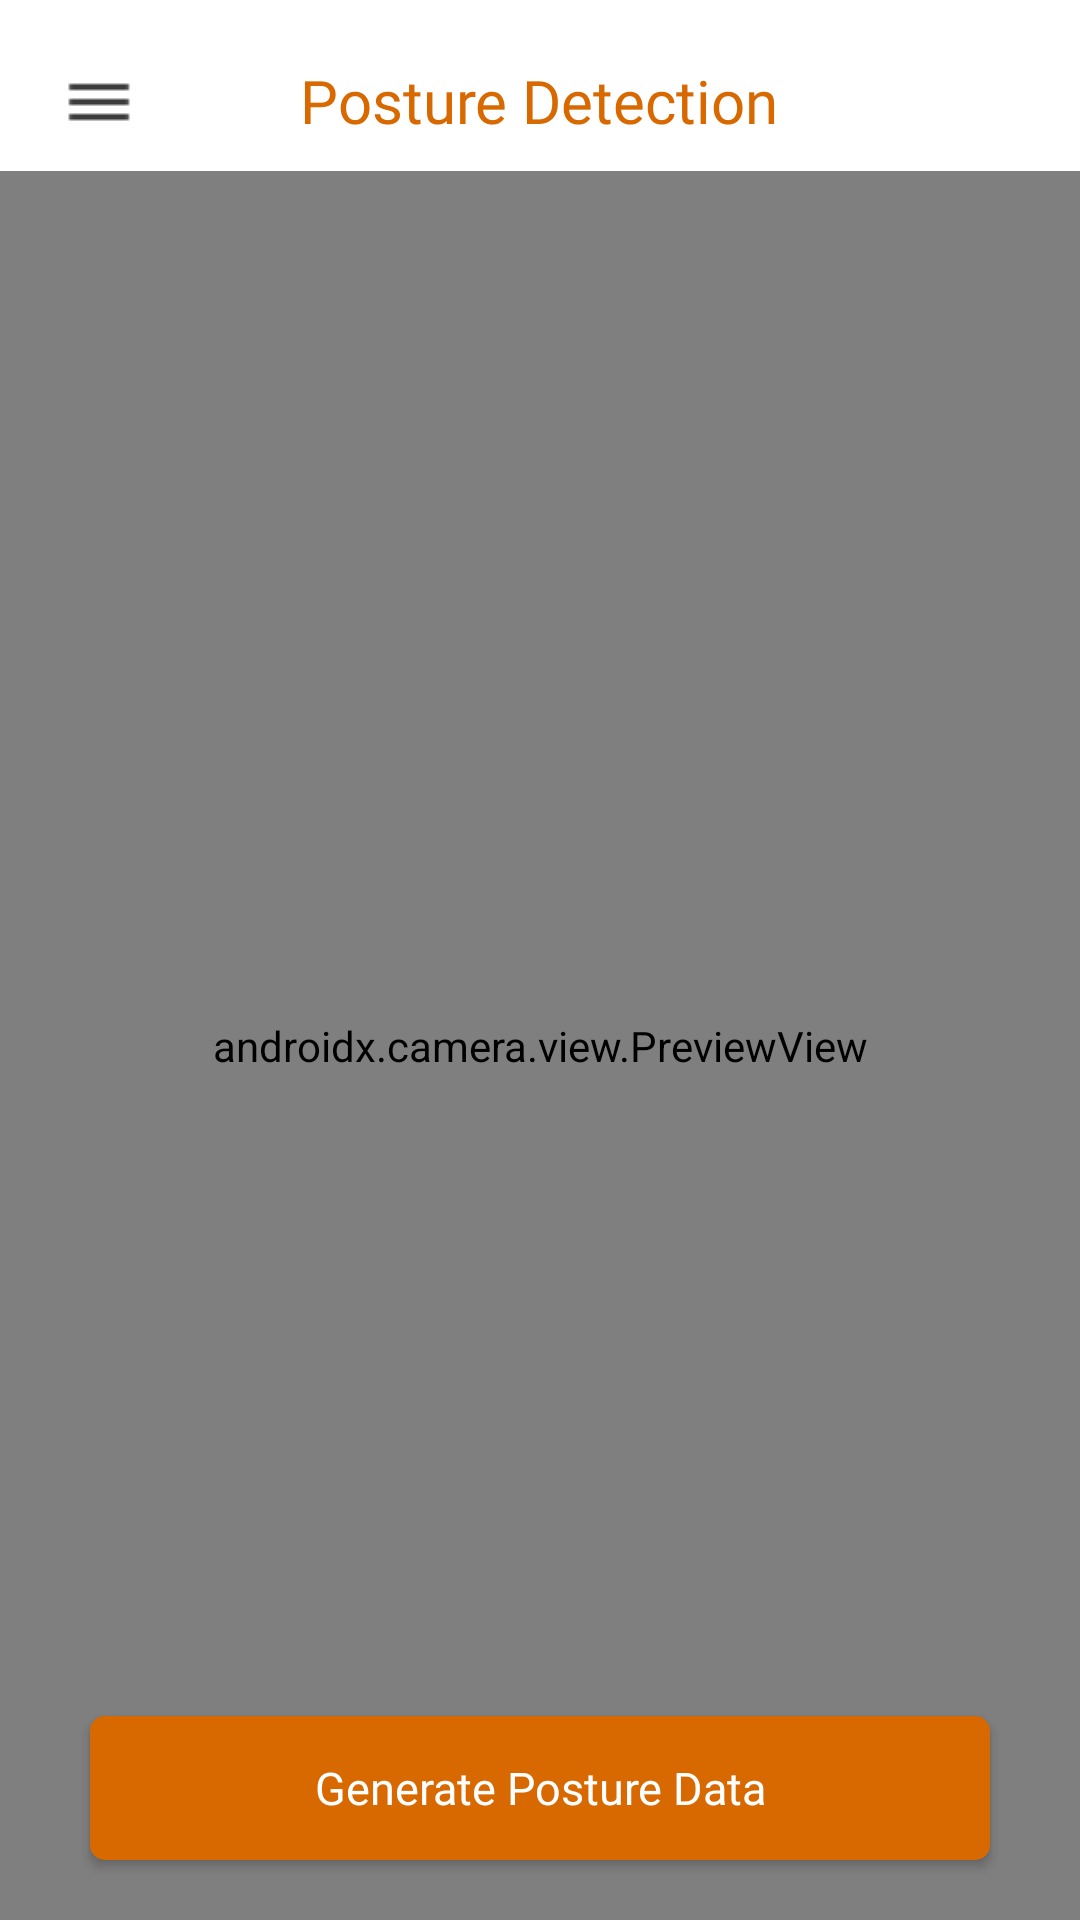

Screen size 1080x1920. Icon name, then its center in pixels as [x,y]:
menu: [99,102]
